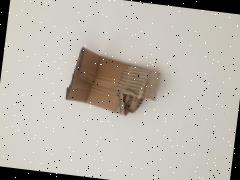cardboard: (29, 15, 186, 138)
